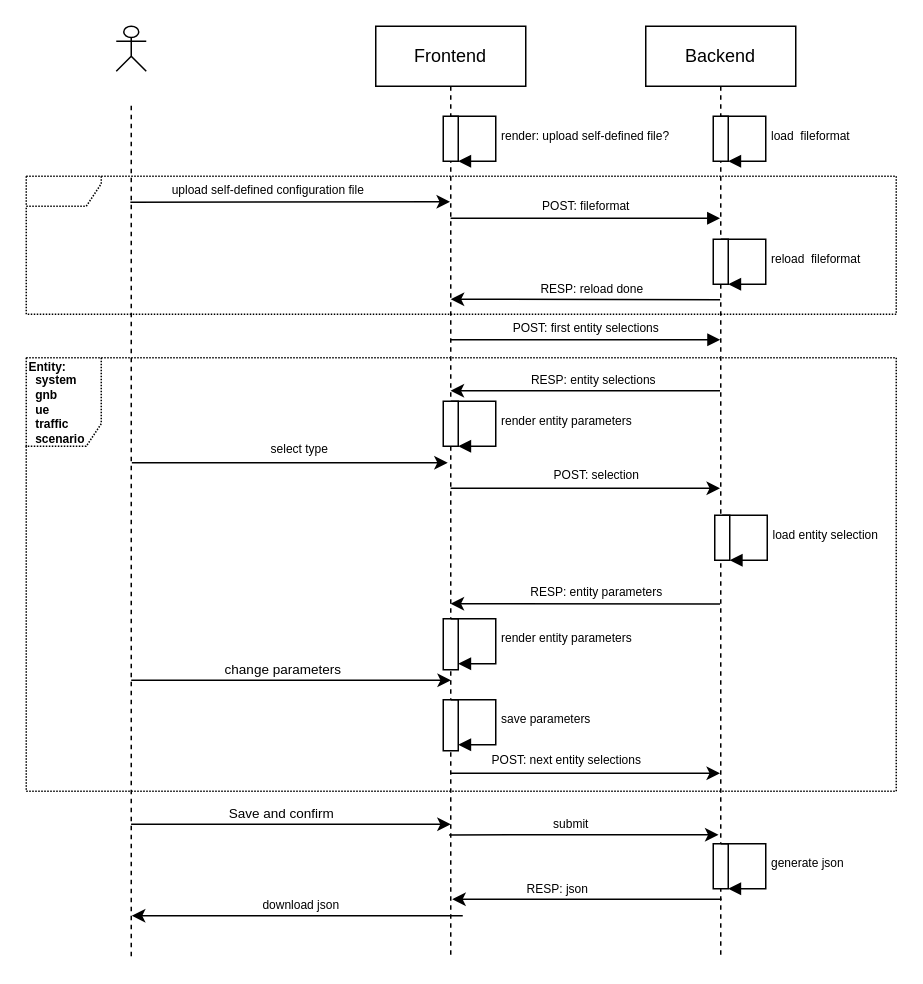
Image size: 923x984. Some labels were removed from this diagram. The shapes that lost their labels are listed below. From the top down, each one's centre as x and y in pixels, then its label:
At (130,48): "User".
At (460,244): "optional".
